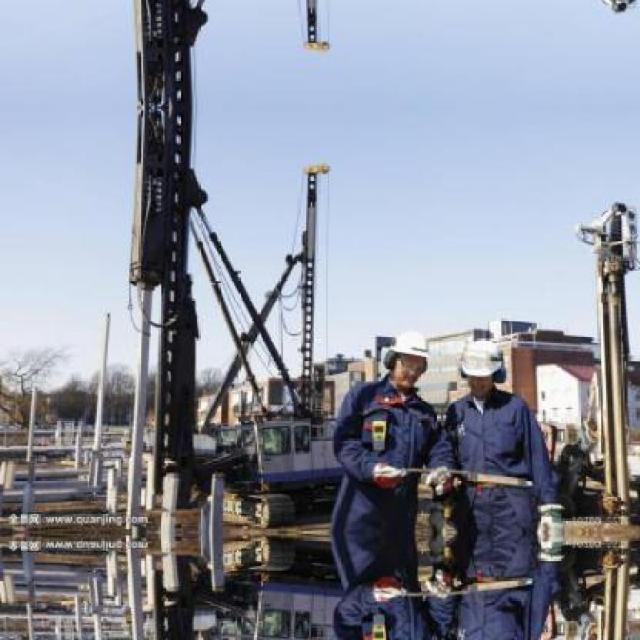helmet: (383, 322, 432, 388), (456, 332, 504, 397)
